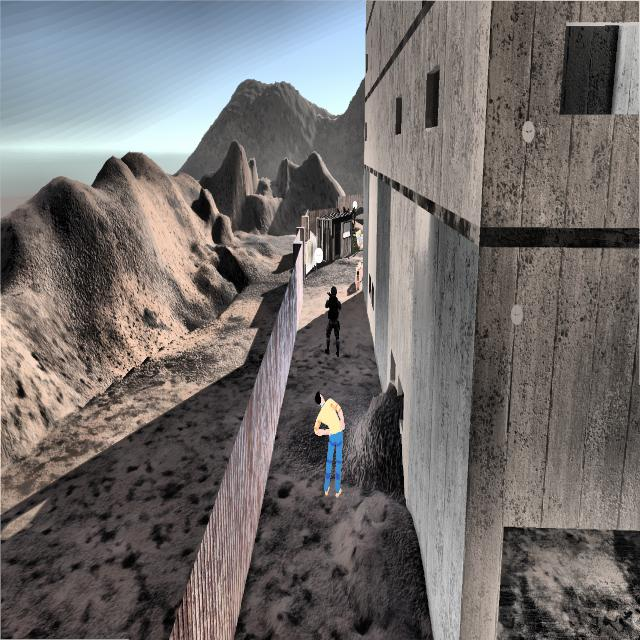bad: (320, 278, 344, 362)
good: (309, 383, 349, 507)
